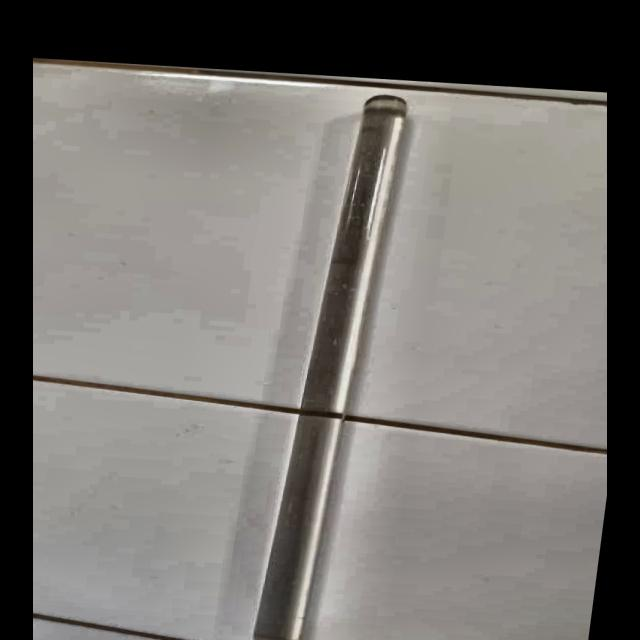Stirrer: (250, 88, 418, 640)
